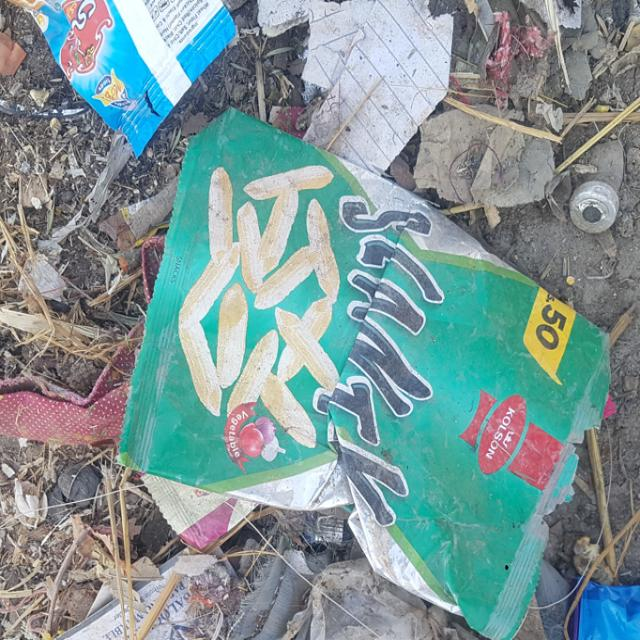electronic: (116, 112, 614, 638), (12, 0, 231, 162)
